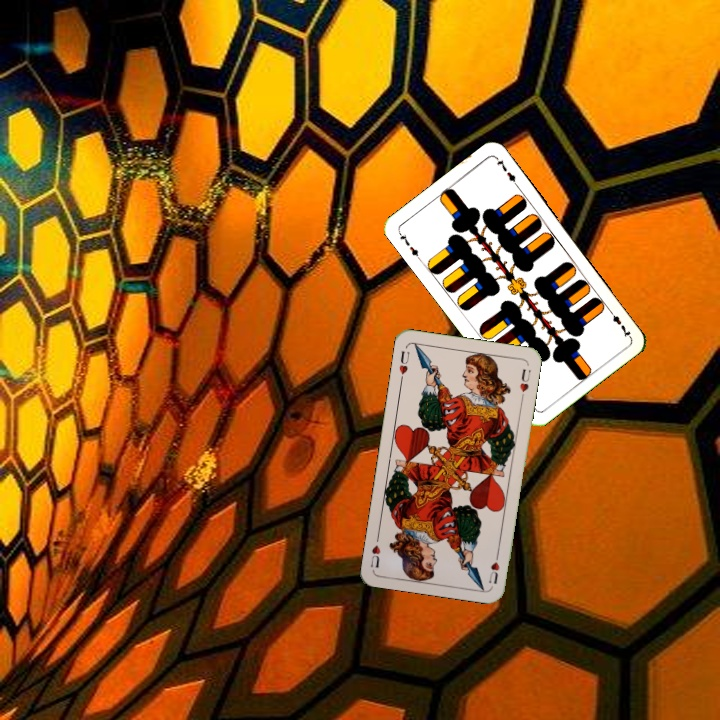E7: (604, 305, 633, 340), (394, 228, 423, 263)
HU: (485, 548, 502, 586), (395, 347, 412, 384)
